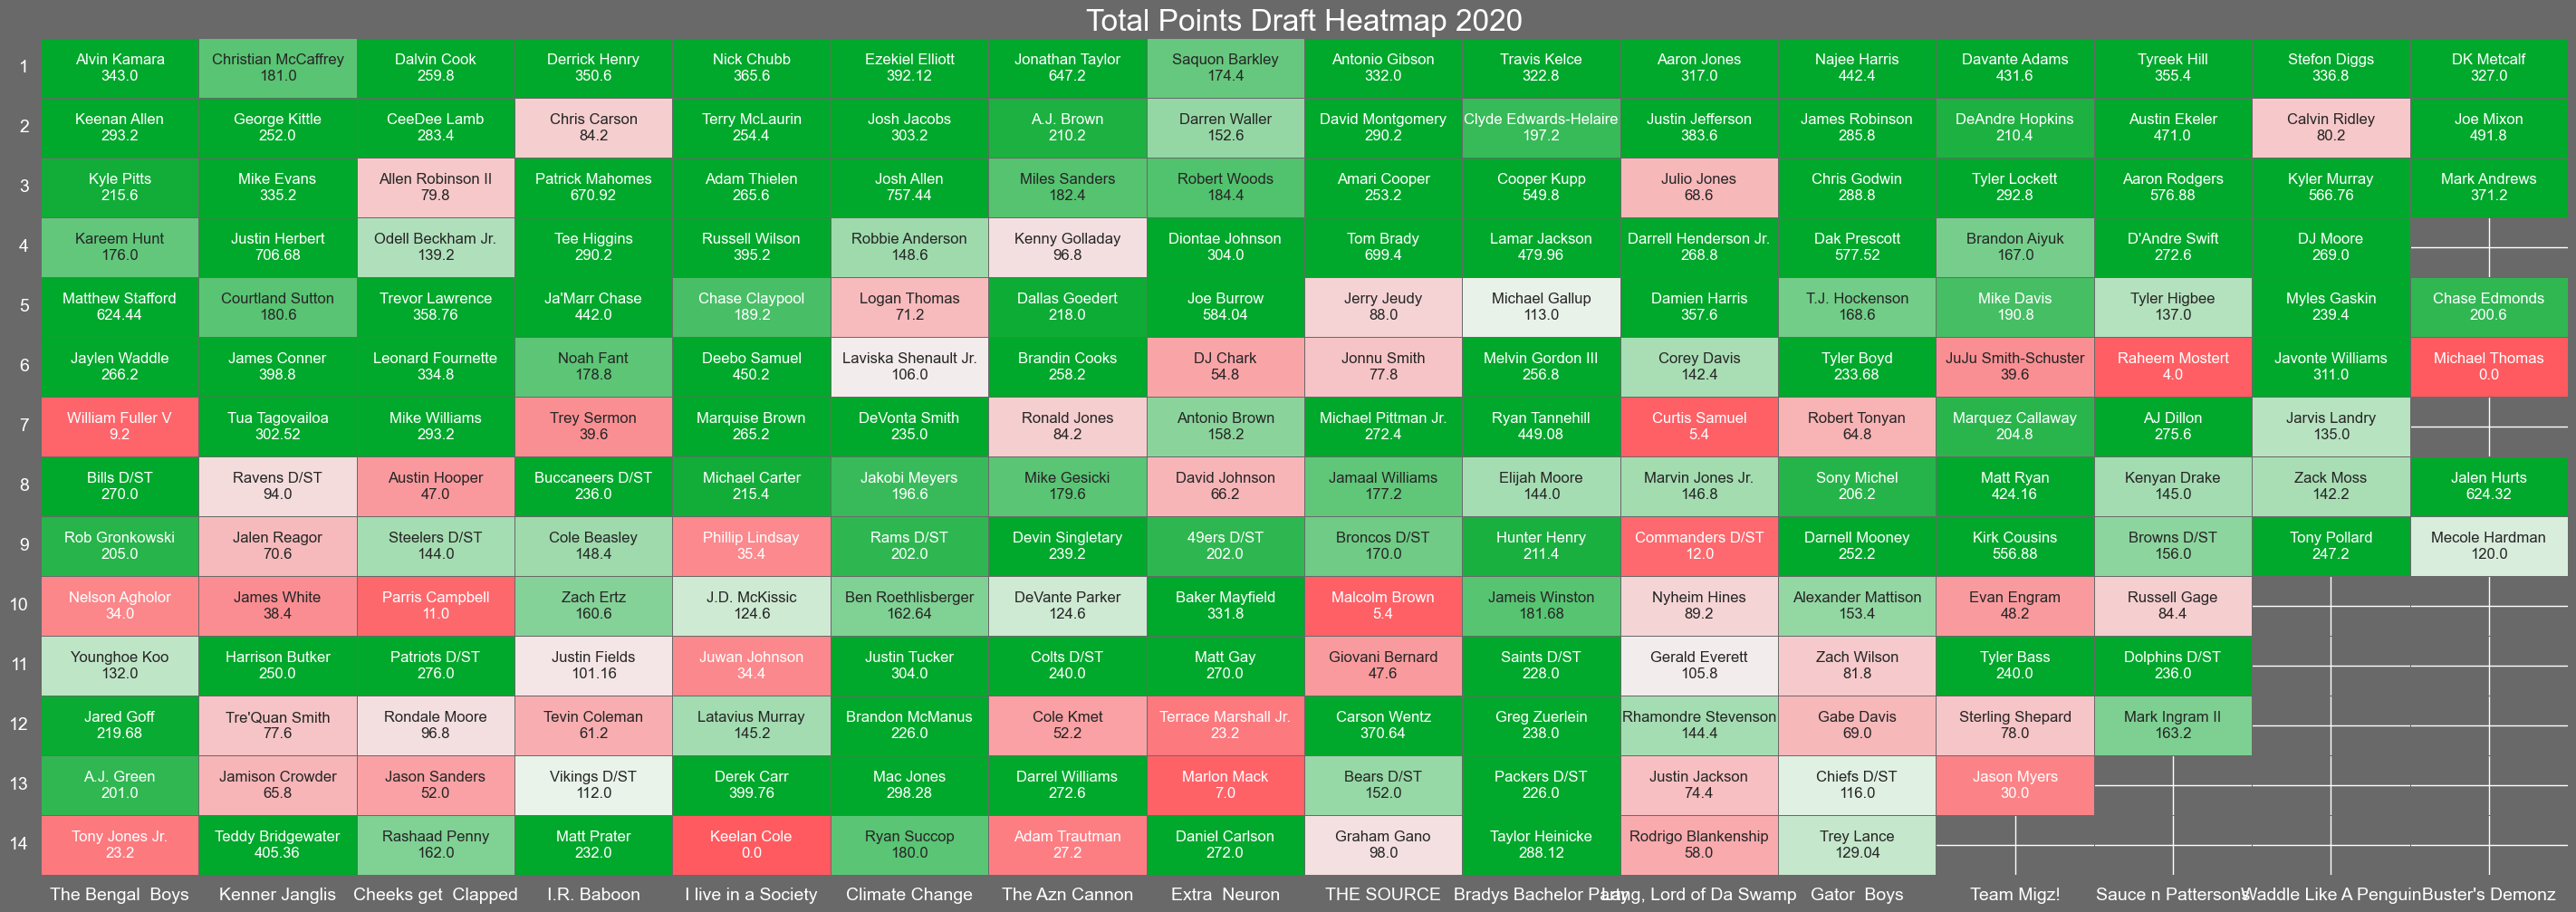

This screenshot's page, from the dashboard's own definition file:
{"tool":"powerbi","page":{"name":"Page 3","canvas":[1280,720],"ordinal":2},"visuals":[{"type":"pivotTable","fields":{"Rows":["Query1.round","Query1.playername"],"Columns":["Query1.pick"],"Values":["Sum(Query1.total)"]},"box":[0,0,1280,720],"z":1}]}

Visuals, with their boxes on the page's 1280x720 design canvas (x1, y1, x2, y2). These are canvas units, not pixel positions in the 2576x912 screenshot, which may show the page scaled, cropped or inside an application window:
pivotTable - Query1.round x Query1.playername: [0,0,1280,720]
